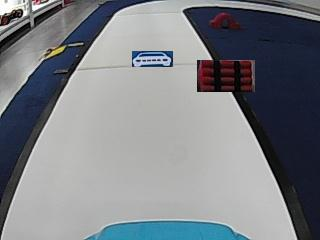bridge: (208, 12, 239, 29)
